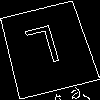L: (23, 24, 65, 77)
